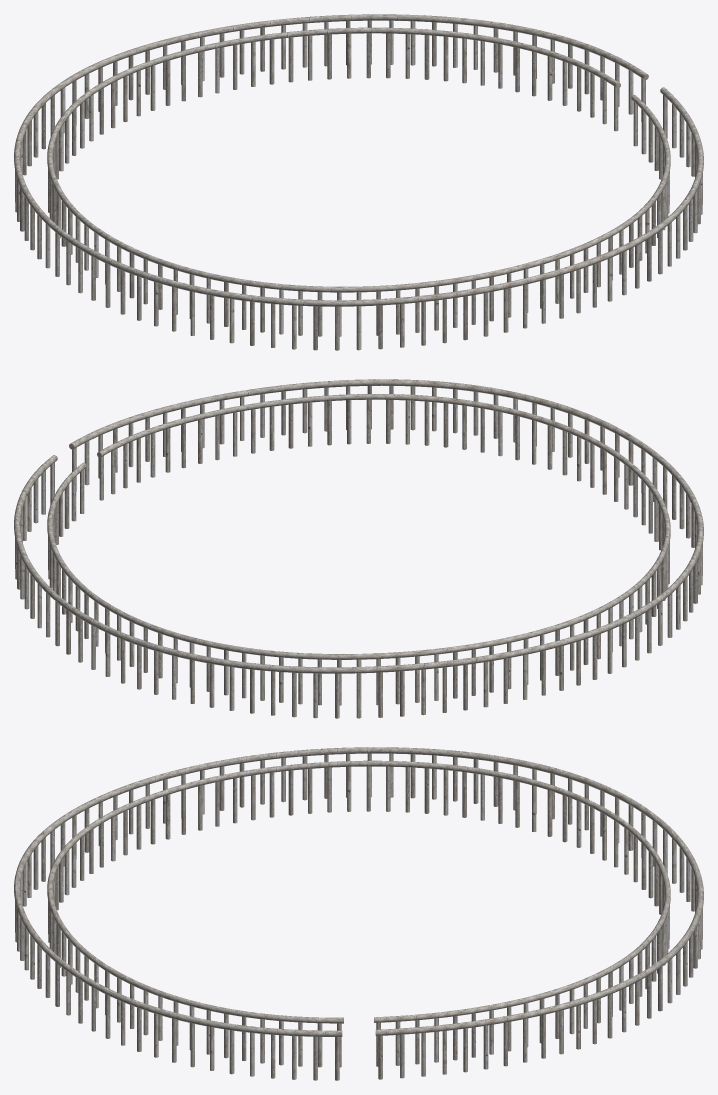
The model's file is palisade.glb.
3 renders of one model, top to bottom at view 1: azimuth 30°, elevation 25°; view 2: azimuth 150°, elevation 25°; view 3: azimuth 270°, elevation 25°, orthographic.
Parts seen in each view (by area): view 1: Object001, Cylinder079; view 2: Object001, Cylinder079; view 3: Object001, Cylinder079.
Boxes of the visible parts, bbox=[...] form: Object001: bbox=[15, 20, 702, 350]; Cylinder079: bbox=[14, 14, 703, 306]; Object001: bbox=[15, 385, 702, 718]; Cylinder079: bbox=[14, 379, 703, 673]; Object001: bbox=[15, 753, 702, 1080]; Cylinder079: bbox=[14, 747, 703, 1036].
Bounding box in the file's own units: 502 × 46.32 × 502.
Materials: 1 (1 with a texture image).
